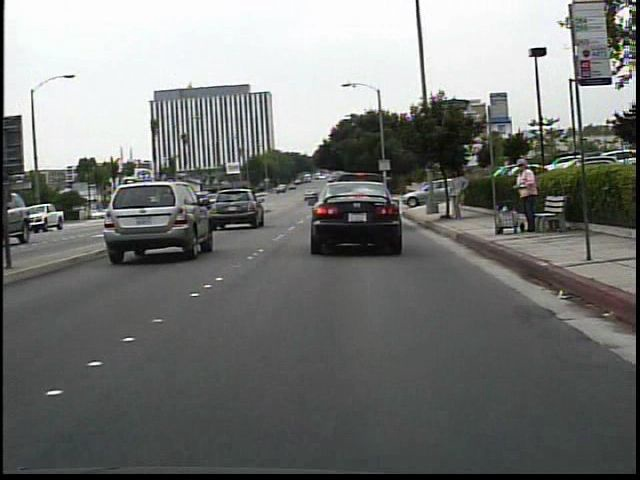person: (509, 154, 540, 232), (445, 165, 471, 222)
